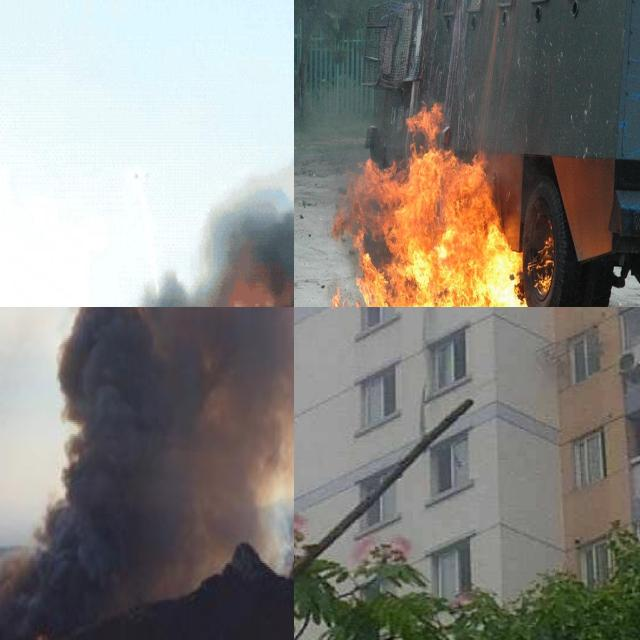fire: (311, 102, 539, 307)
smoke: (0, 307, 294, 640), (131, 0, 294, 307)
